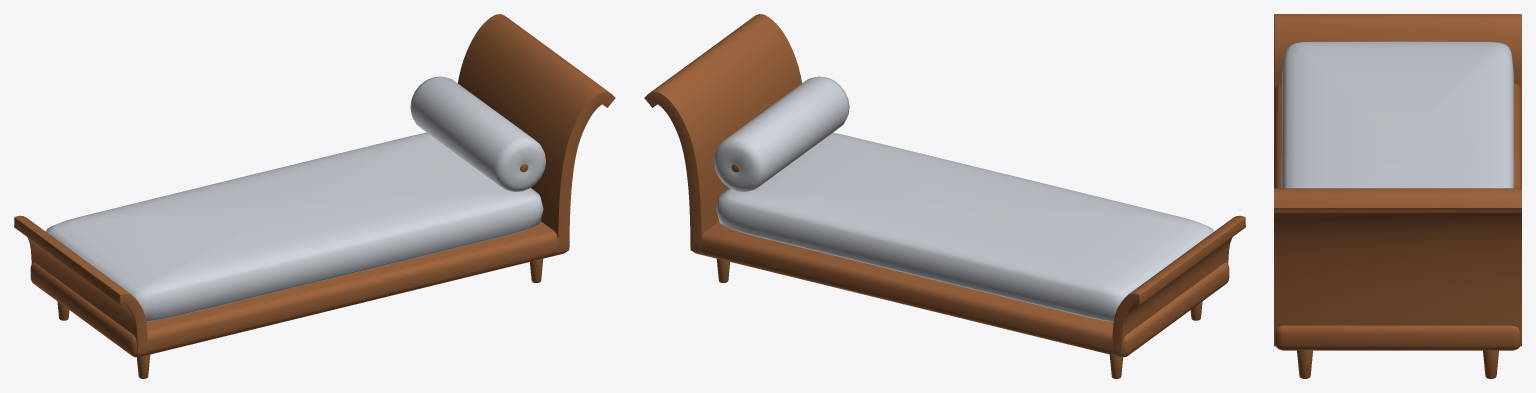
File: diva_madeira_cinza.glb
3 views of the same model, side by side, from view 1: azimuth 30°, elevation 25°; view 2: azimuth 150°, elevation 25°; view 3: azimuth 270°, elevation 25° (orthographic). The views are drawn at different scales.
Visible parts, largest first — view 1: diva_madeira_cinza; view 2: diva_madeira_cinza; view 3: diva_madeira_cinza.
Boxes of the visible parts, x1,y1,x2,y2 form: diva_madeira_cinza: [14, 14, 615, 378]; diva_madeira_cinza: [644, 14, 1245, 378]; diva_madeira_cinza: [1274, 14, 1521, 378].
Bounding box in the file's own units: 2.16 × 0.7749 × 0.8.
Materials: 1 (1 with a texture image).
